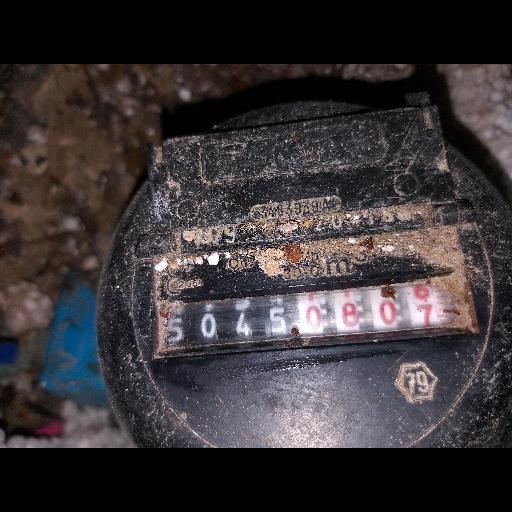0: (369, 285, 402, 332), (296, 292, 326, 338), (194, 302, 221, 345)
4: (229, 298, 255, 342)
5: (264, 294, 289, 338), (163, 307, 188, 348)
7: (404, 280, 443, 332)
8: (332, 289, 362, 334)
border_water_meter_number: (161, 271, 459, 356)
